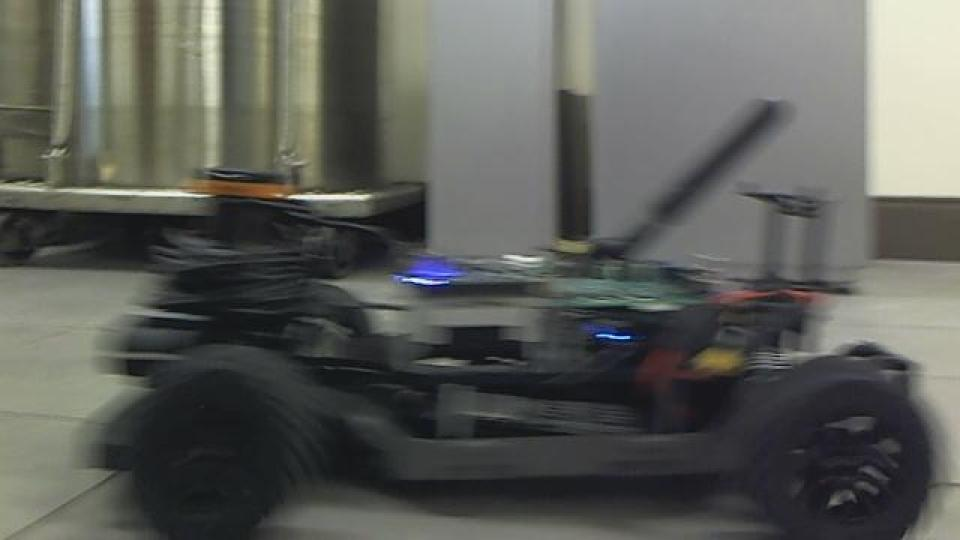car: (75, 95, 935, 537)
